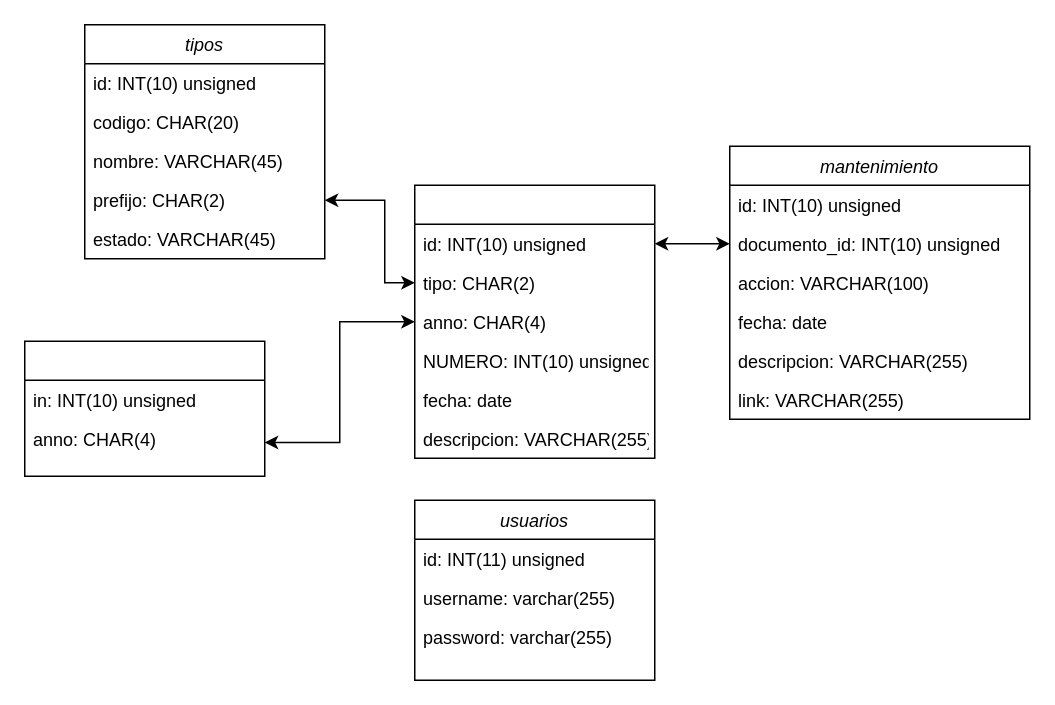
This 1055x705 diagram has some shape labels left out. Here are the shapes that lost their labels. From the top down, the box of each, then its label:
(413, 184, 655, 458): documentos
(23, 340, 265, 476): annos
